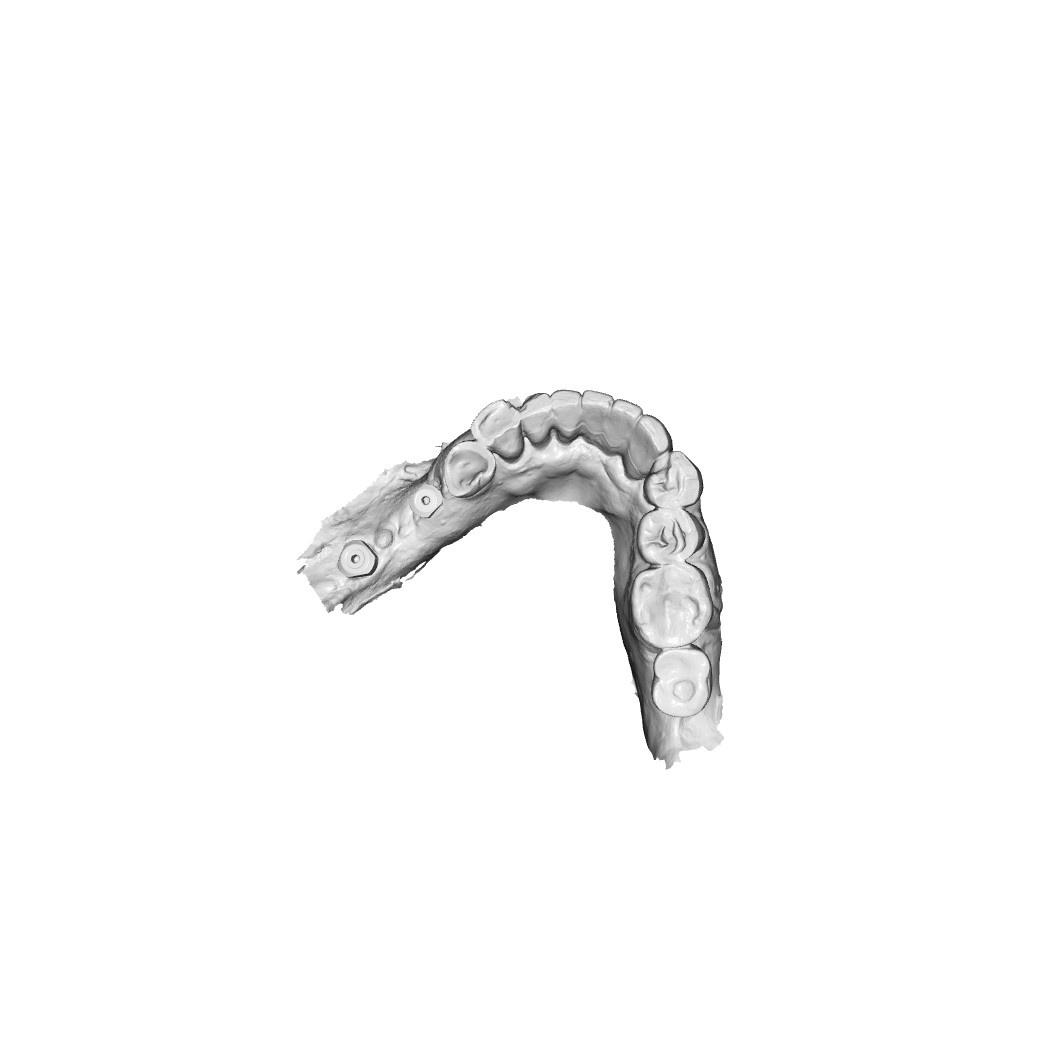canine: (477, 398, 525, 466), (624, 420, 664, 476)
implant: (342, 542, 376, 575), (410, 484, 440, 520)
incisor: (606, 396, 637, 460), (580, 386, 611, 449), (520, 389, 553, 442), (551, 384, 580, 439)
molar: (632, 566, 710, 646), (650, 641, 715, 721)
premolar: (634, 505, 704, 566), (640, 451, 702, 511), (446, 441, 494, 497)
